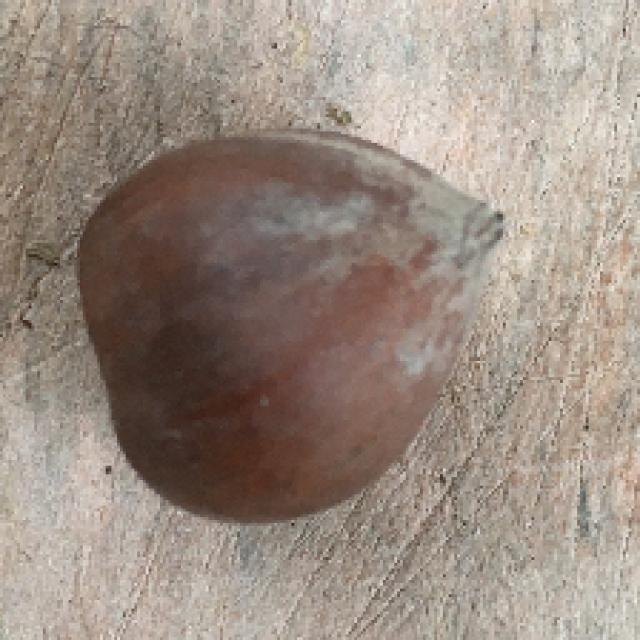damagedHazelnut: (59, 115, 521, 532)
